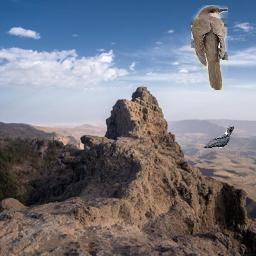Crow: (204, 126, 235, 148)
Cuckoo: (192, 6, 229, 91)
